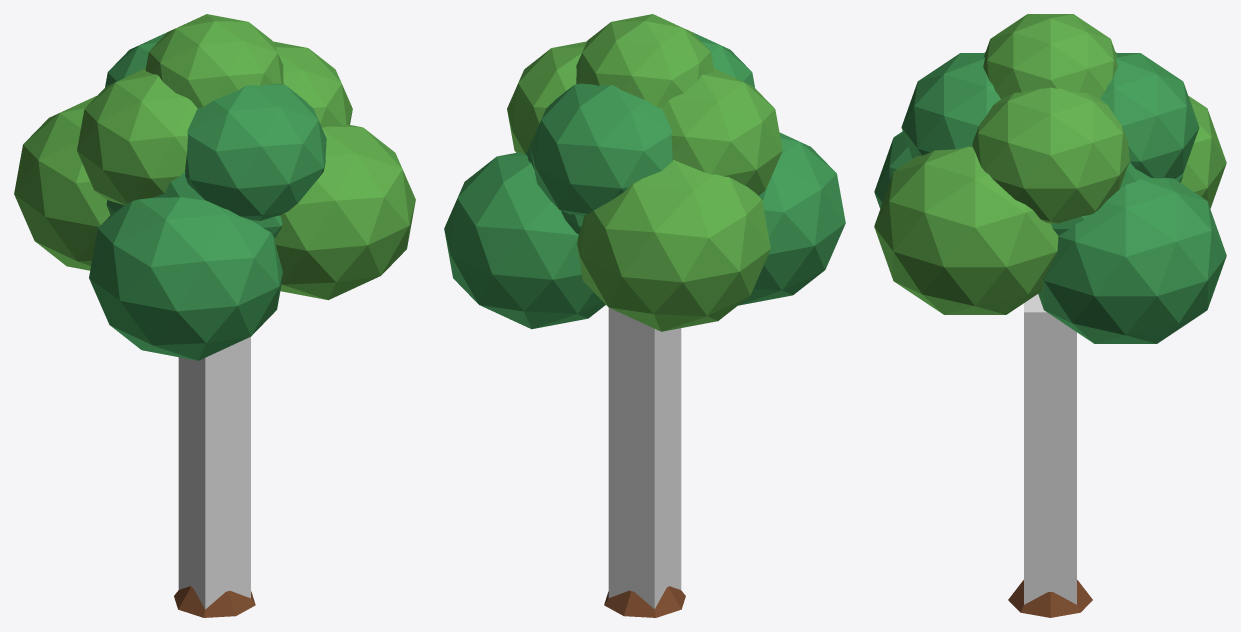
The model's file is prop_tree_b.glb.
The picture shows the model from 3 angles, left to right: view 1: azimuth 30°, elevation 25°; view 2: azimuth 150°, elevation 25°; view 3: azimuth 270°, elevation 25°; orthographic projection.
Visible parts, largest first — view 1: prop_tree_b, COL_prop_tree_b_1; view 2: prop_tree_b, COL_prop_tree_b_1; view 3: prop_tree_b, COL_prop_tree_b_1.
Part boxes in pixels (box(x1,y1,x2,y2)): prop_tree_b: box(14, 14, 415, 617); COL_prop_tree_b_1: box(178, 337, 250, 609); prop_tree_b: box(444, 14, 845, 617); COL_prop_tree_b_1: box(608, 308, 681, 608); prop_tree_b: box(874, 14, 1226, 617); COL_prop_tree_b_1: box(1024, 294, 1076, 604).
Bounding box in the file's own units: 3.22 × 6.03 × 3.31.
